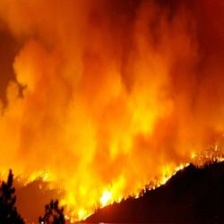fire: (93, 188, 123, 210), (157, 162, 183, 186)
smoke: (10, 12, 152, 160)
